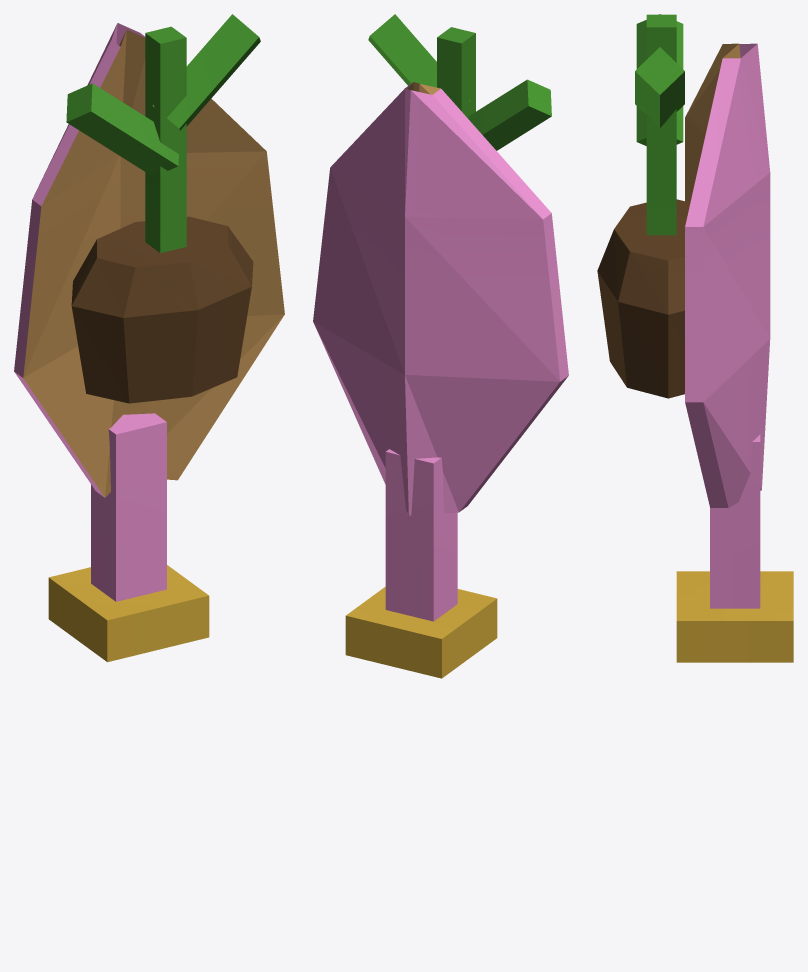
Rendered from trowel_plant.obj.
The picture shows the model from 3 angles, left to right: view 1: azimuth 30°, elevation 25°; view 2: azimuth 150°, elevation 25°; view 3: azimuth 270°, elevation 25°; orthographic projection. The views are drawn at different scales.
Parts seen in each view (by area): view 1: square_wood_grip_tang_and_concave_iron_scoop, root_ball_and_carried_green_plant; view 2: square_wood_grip_tang_and_concave_iron_scoop, root_ball_and_carried_green_plant; view 3: square_wood_grip_tang_and_concave_iron_scoop, root_ball_and_carried_green_plant.
Part boxes in pixels (x1,y1,x2,y2): square_wood_grip_tang_and_concave_iron_scoop: [14, 23, 284, 662]; root_ball_and_carried_green_plant: [66, 14, 260, 403]; square_wood_grip_tang_and_concave_iron_scoop: [313, 82, 568, 678]; root_ball_and_carried_green_plant: [368, 14, 551, 150]; square_wood_grip_tang_and_concave_iron_scoop: [676, 43, 793, 662]; root_ball_and_carried_green_plant: [597, 14, 690, 398].
Bounding box in the file's own units: 0.225 × 0.7611 × 0.1469.
